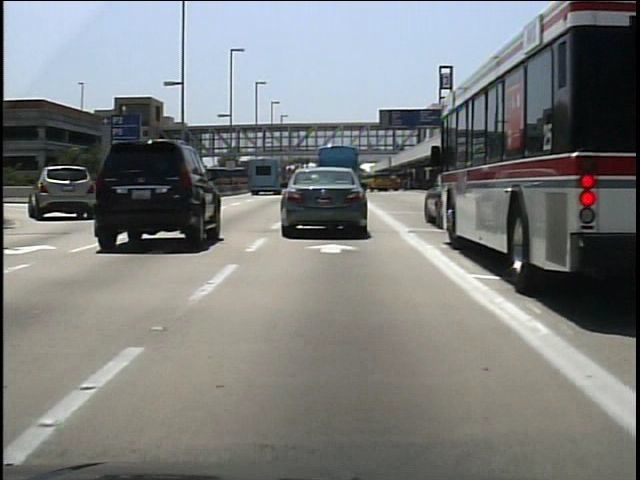person: (391, 136, 404, 157), (364, 136, 377, 156)
